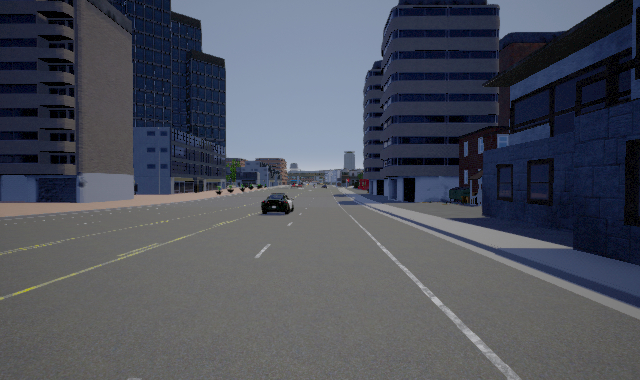vehicle: (261, 193, 294, 215)
